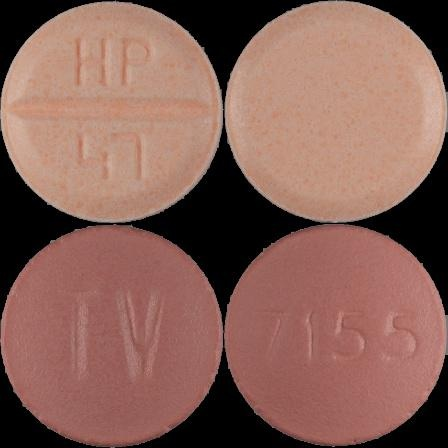54458-930: (0, 0, 224, 224)
